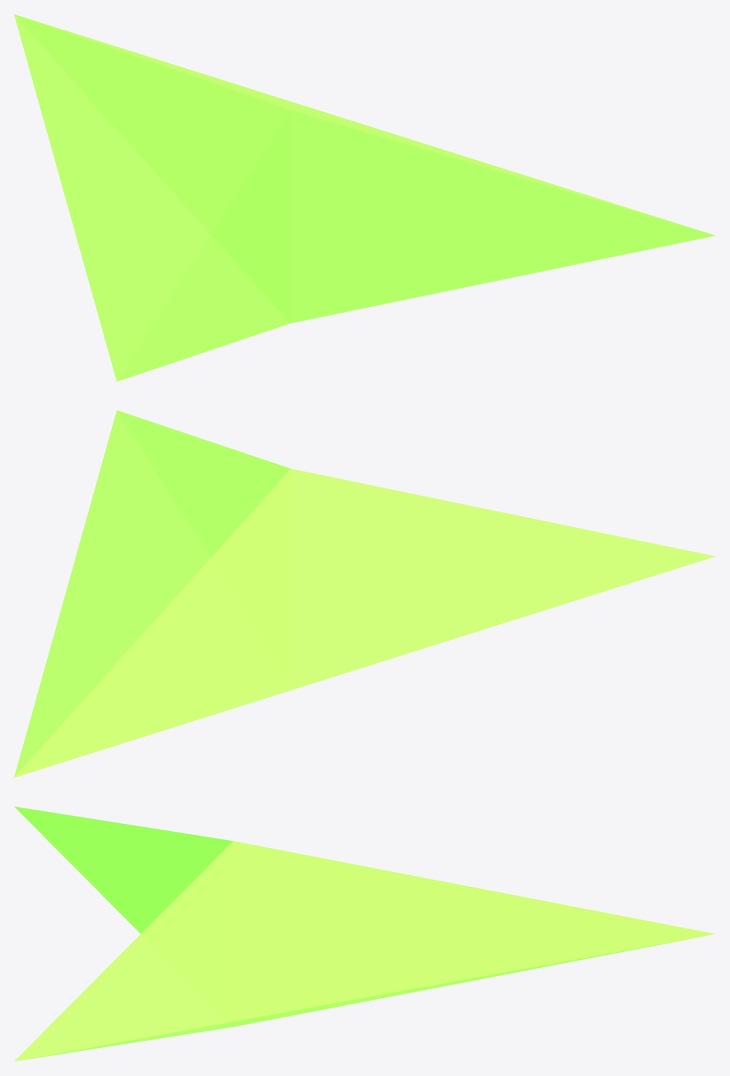
File: pointer.gltf
3 views of the same model, one above another, from view 1: azimuth 30°, elevation 25°; view 2: azimuth 150°, elevation 25°; view 3: azimuth 270°, elevation 25° (orthographic). The views are drawn at different scales.
Visible parts, largest first — view 1: arrow_model; view 2: arrow_model; view 3: arrow_model.
Boxes of the visible parts, left/top/right/bottom form: arrow_model: left=14, top=14, right=715, bottom=381; arrow_model: left=14, top=410, right=715, bottom=777; arrow_model: left=14, top=806, right=714, bottom=1061.
Size of the model in its own units: 1.47 by 0.5 by 1.71.
